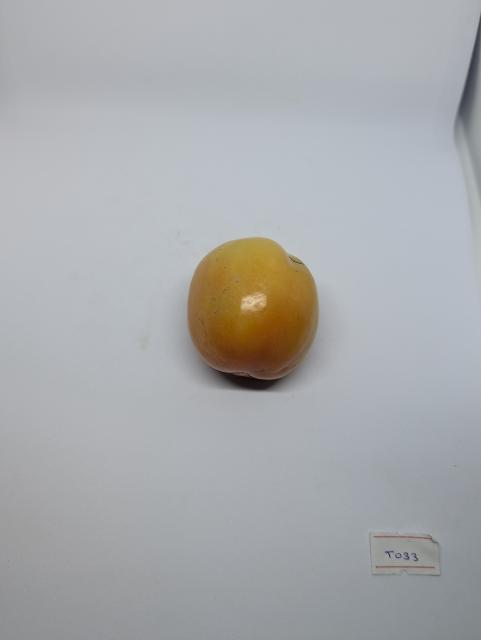turning: (181, 229, 329, 388)
